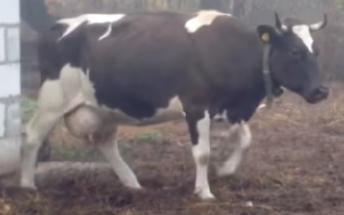cow: (21, 13, 329, 201)
